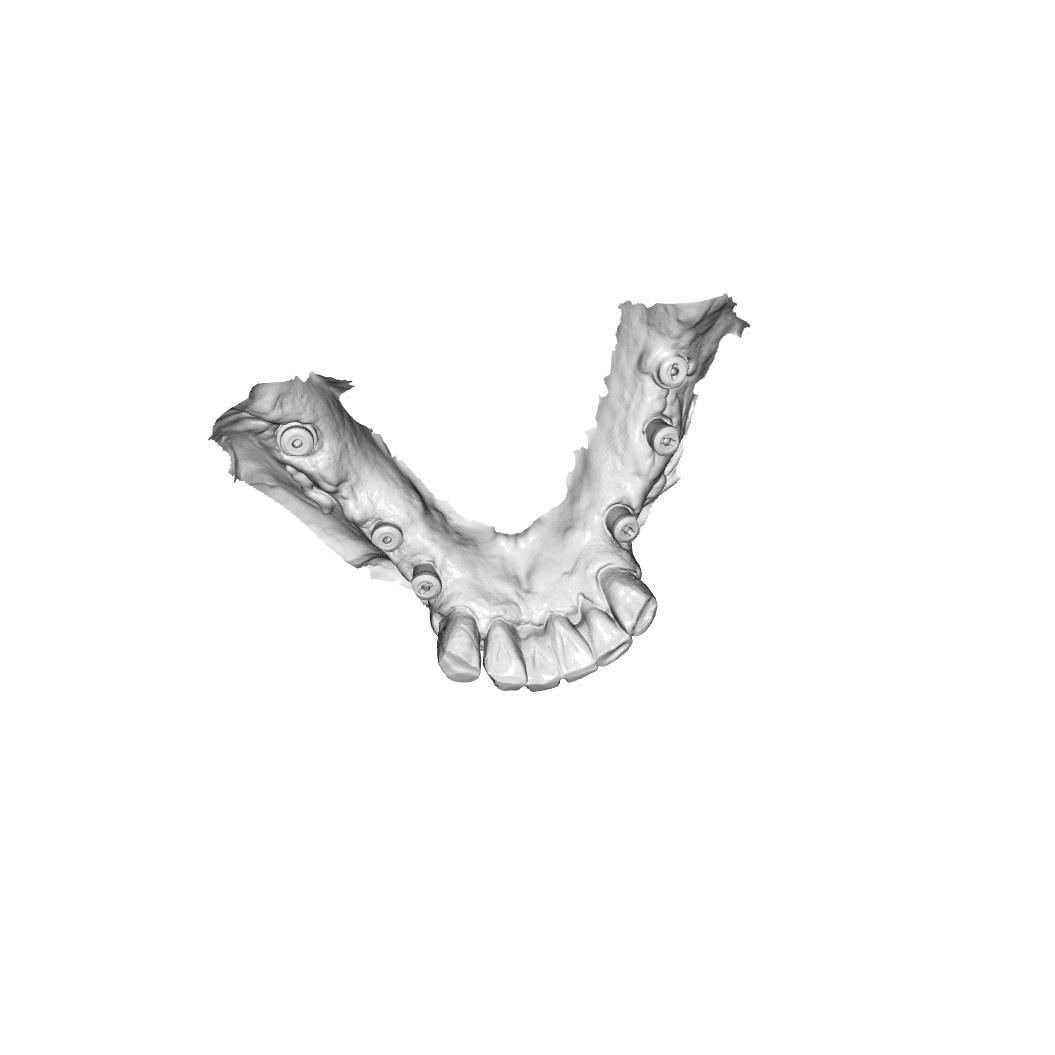canine: (603, 572, 661, 639), (435, 613, 484, 686)
implant: (277, 419, 319, 460), (368, 521, 406, 555)
implant_minus: (653, 352, 694, 396), (645, 415, 683, 457), (605, 503, 640, 543), (409, 563, 444, 602)
incisor: (548, 611, 600, 686), (581, 596, 633, 669), (484, 624, 528, 692), (524, 630, 566, 693)
